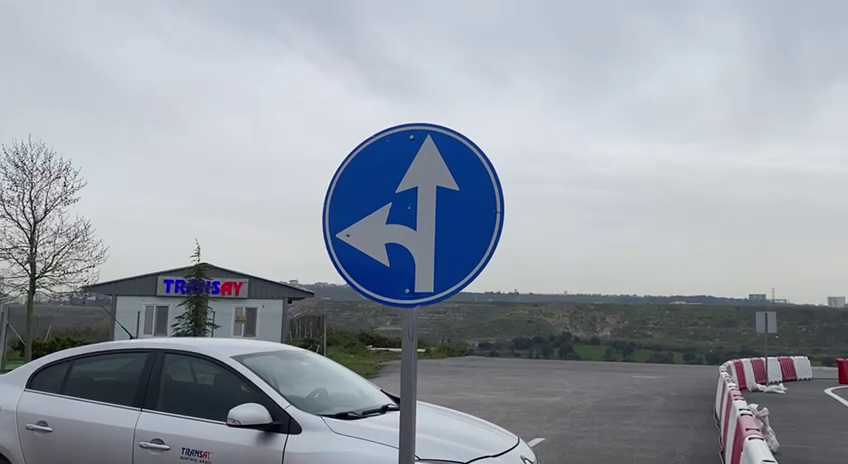forwardAndLeft: (317, 117, 509, 311)
